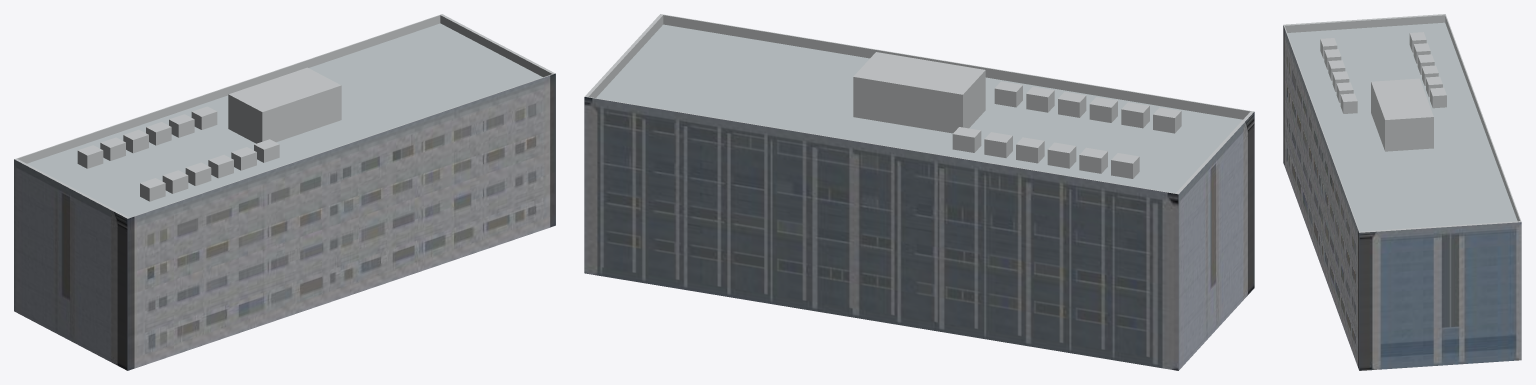
3 renders of one model, left to right at view 1: azimuth 30°, elevation 25°; view 2: azimuth 150°, elevation 25°; view 3: azimuth 270°, elevation 25°, orthographic. The views are drawn at different scales.
Visible parts, largest first — view 1: 1057168414; view 2: 1057168414; view 3: 1057168414.
Boxes of the visible parts, x1,y1,x2,y2 form: 1057168414: [14, 14, 555, 370]; 1057168414: [584, 14, 1254, 370]; 1057168414: [1283, 14, 1521, 370].
Bounding box in the file's own units: 50.65 × 17.5 × 23.31.
Materials: 3 (1 with a texture image).
